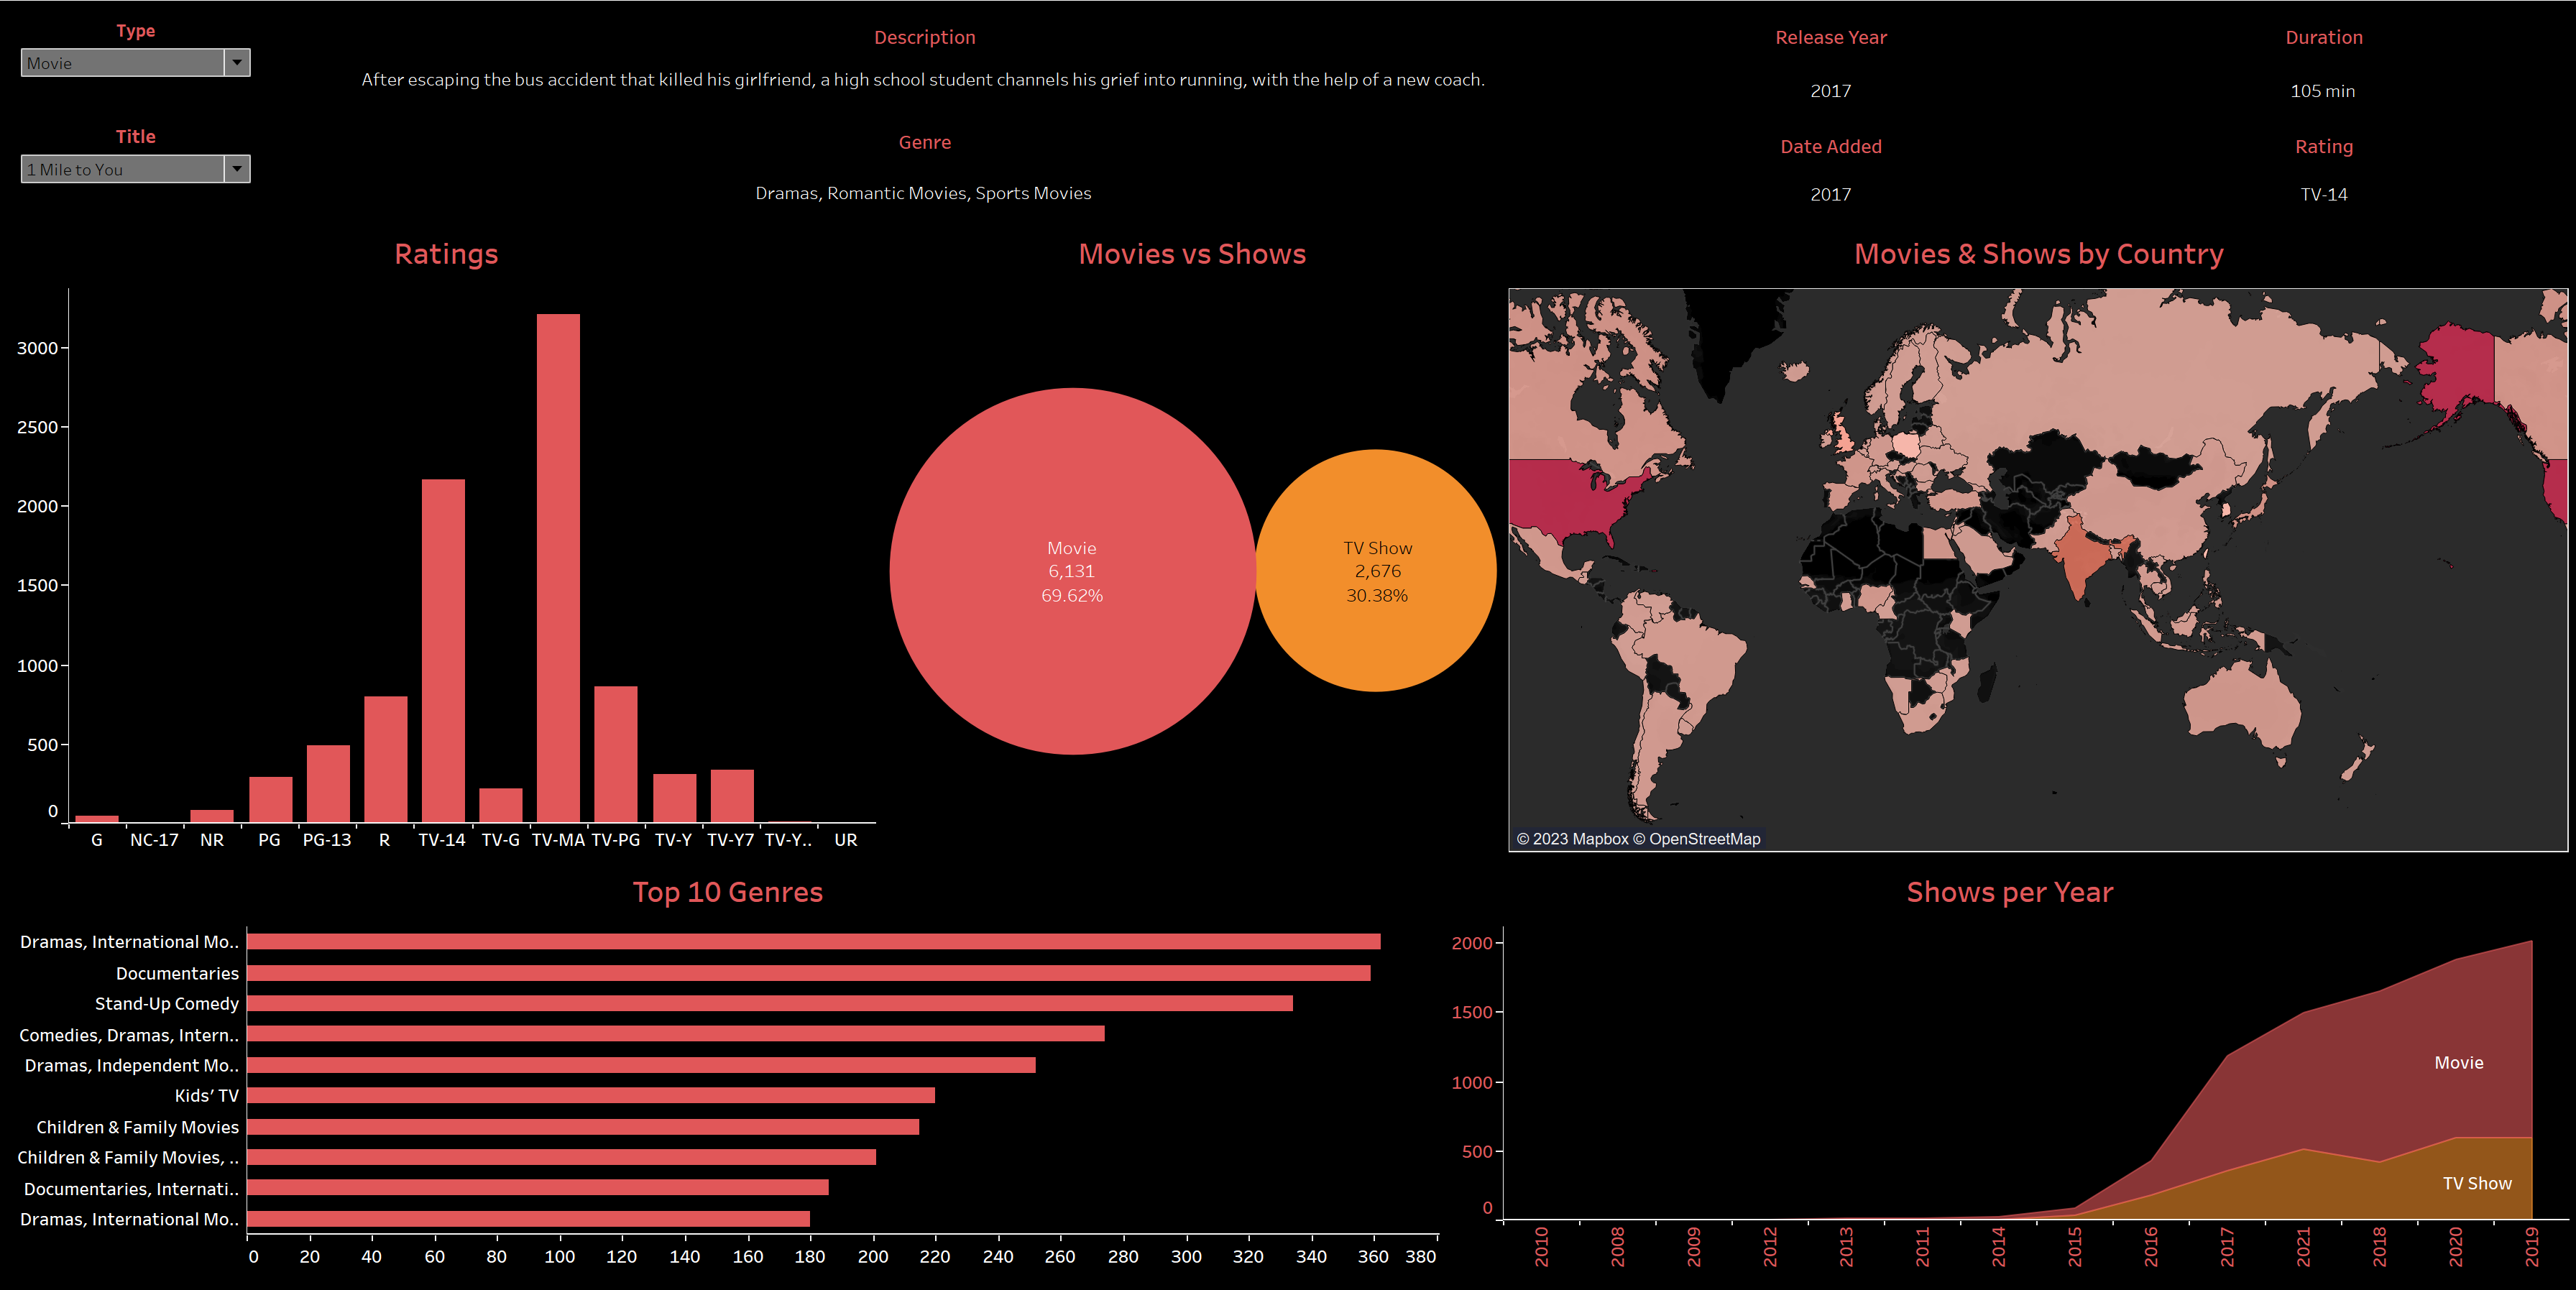

The page's visual inventory and layout, read from the dashboard file:
{"tool":"tableau","page":{"name":"Netflix Insights","canvas":[1800,900],"ordinal":0},"visuals":[{"type":"filter","title":"Description","param":"[federated.0f5rsm601wizwt1c8d2c21ljw81l].[none:type:nk]","box":[8,8,173.8,73]},{"type":"worksheet","title":"Description","mark":"Automatic","box":[181.8,8,924.2,72.5]},{"type":"worksheet","title":"Release Year","mark":"Automatic","box":[1106,8,337,76]},{"type":"worksheet","title":"Duration","mark":"Automatic","box":[1443,8,349,76]},{"type":"worksheet","title":"Genre","mark":"Automatic","box":[181.8,80.5,924.2,72.5]},{"type":"filter","title":"Description","param":"[federated.0f5rsm601wizwt1c8d2c21ljw81l].[none:title:nk]","box":[8,81,173.8,72]},{"type":"worksheet","title":"Date Added","mark":"Automatic","box":[1106,84,337,69]},{"type":"worksheet","title":"Rating","mark":"Automatic","box":[1443,84,349,69]},{"type":"worksheet","title":"Rating Counts","mark":"Automatic","rows":["show_id"],"cols":["rating"],"box":[8,153,505,444.3]},{"type":"worksheet","title":"Shows & Movies Distribution","mark":"Circle","box":[513,153,505,444.3]},{"type":"worksheet","title":"Movies & Shows by Country","mark":"Multipolygon","box":[1018,153,774.1,444.3]},{"type":"worksheet","title":"Top 10 Genre","mark":"Automatic","rows":["listed_in"],"cols":["show_id"],"box":[8,597.3,997.8,294.7]},{"type":"worksheet","title":"Total Movies & Shows per year","mark":"Area","rows":["show_id"],"cols":["date_added"],"box":[1005.8,597.3,786.2,294.7]}]}

Visuals, with their boxes in screenshot pixels (x1, y1, x2, y2), scaled from the page's 1800x900 canvas onto the 2576x1290 screenshot:
"Description" filter: 11, 11, 260, 116
"Description" worksheet: 260, 11, 1583, 116
"Release Year" worksheet: 1583, 11, 2065, 121
"Duration" worksheet: 2065, 11, 2564, 121
"Genre" worksheet: 260, 116, 1583, 219
"Description" filter: 11, 116, 260, 219
"Date Added" worksheet: 1583, 121, 2065, 219
"Rating" worksheet: 2065, 121, 2564, 219
"Rating Counts" worksheet: 11, 219, 734, 856
"Shows & Movies Distribution" worksheet (Circle marks): 734, 219, 1457, 856
"Movies & Shows by Country" worksheet (Multipolygon marks): 1457, 219, 2564, 856
"Top 10 Genre" worksheet: 11, 856, 1440, 1279
"Total Movies & Shows per year" worksheet (Area marks): 1440, 856, 2564, 1279
